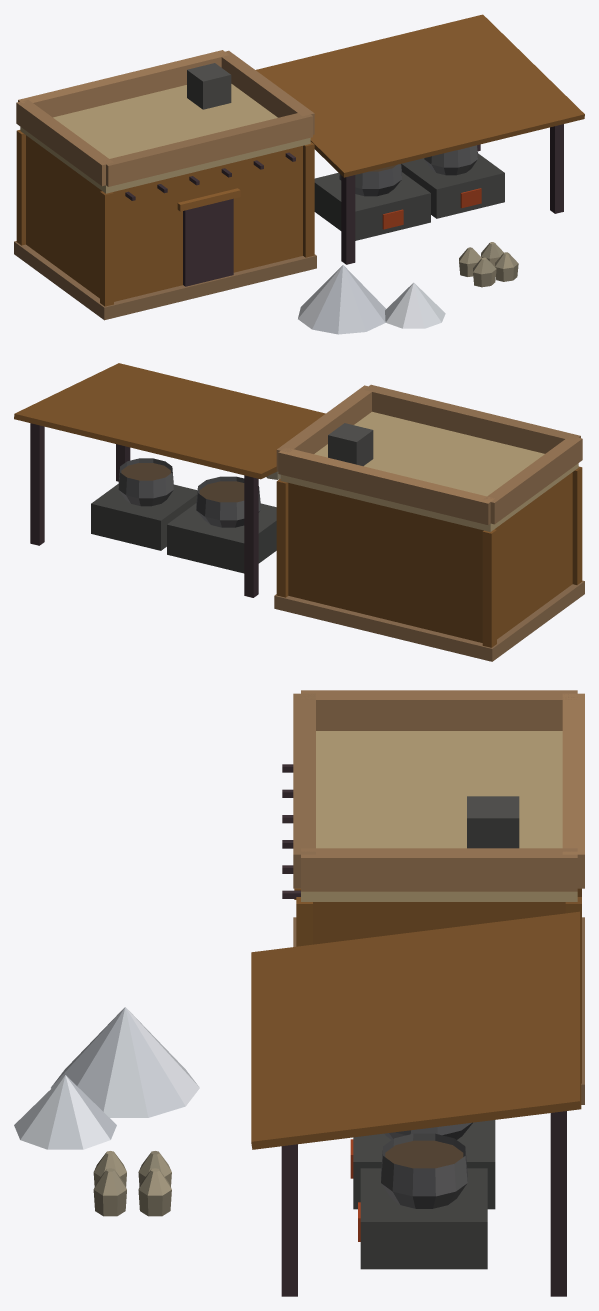
The model's file is walk_hive_saltworks.glb.
3 renders of one model, top to bottom at view 1: azimuth 30°, elevation 25°; view 2: azimuth 150°, elevation 25°; view 3: azimuth 270°, elevation 25°, orthographic. The views are drawn at different scales.
Parts seen in each view (by area): view 1: walk_hive_saltworks, walk_hive_saltworks_roof; view 2: walk_hive_saltworks, walk_hive_saltworks_roof; view 3: walk_hive_saltworks_roof, walk_hive_saltworks.
Boxes of the visible parts, left/top/right/bottom form: walk_hive_saltworks: left=14, top=124, right=563, bottom=334; walk_hive_saltworks_roof: left=16, top=14, right=584, bottom=193; walk_hive_saltworks: left=30, top=423, right=584, bottom=661; walk_hive_saltworks_roof: left=14, top=363, right=582, bottom=531; walk_hive_saltworks_roof: left=251, top=690, right=584, bottom=1149; walk_hive_saltworks: left=14, top=764, right=584, bottom=1296.
Size of what is drawn, in the model's own units: 11.65 by 3.91 by 7.64.
2 materials, 2 textured.
